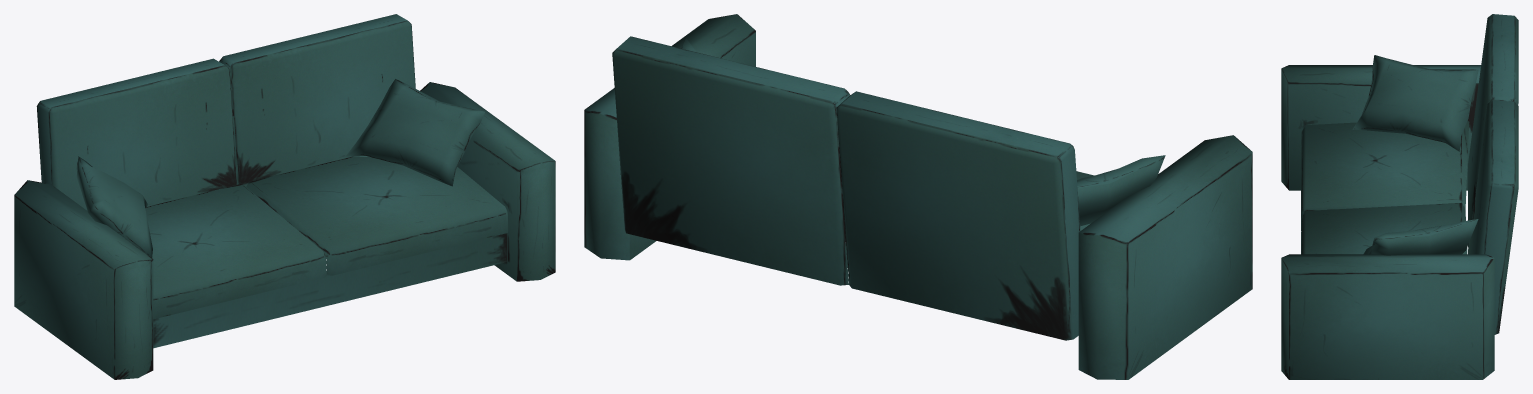
File: Sofa.fbx
3 views of the same model, side by side, from view 1: azimuth 30°, elevation 25°; view 2: azimuth 150°, elevation 25°; view 3: azimuth 270°, elevation 25° (orthographic). The views are drawn at different scales.
Parts seen in each view (by area): view 1: sofa; view 2: sofa; view 3: sofa.
Part boxes in pixels (bbox=[...]): sofa: bbox=[14, 14, 555, 379]; sofa: bbox=[584, 14, 1252, 379]; sofa: bbox=[1281, 14, 1518, 379].
Bounding box in the file's own units: 294 × 118 × 142.
